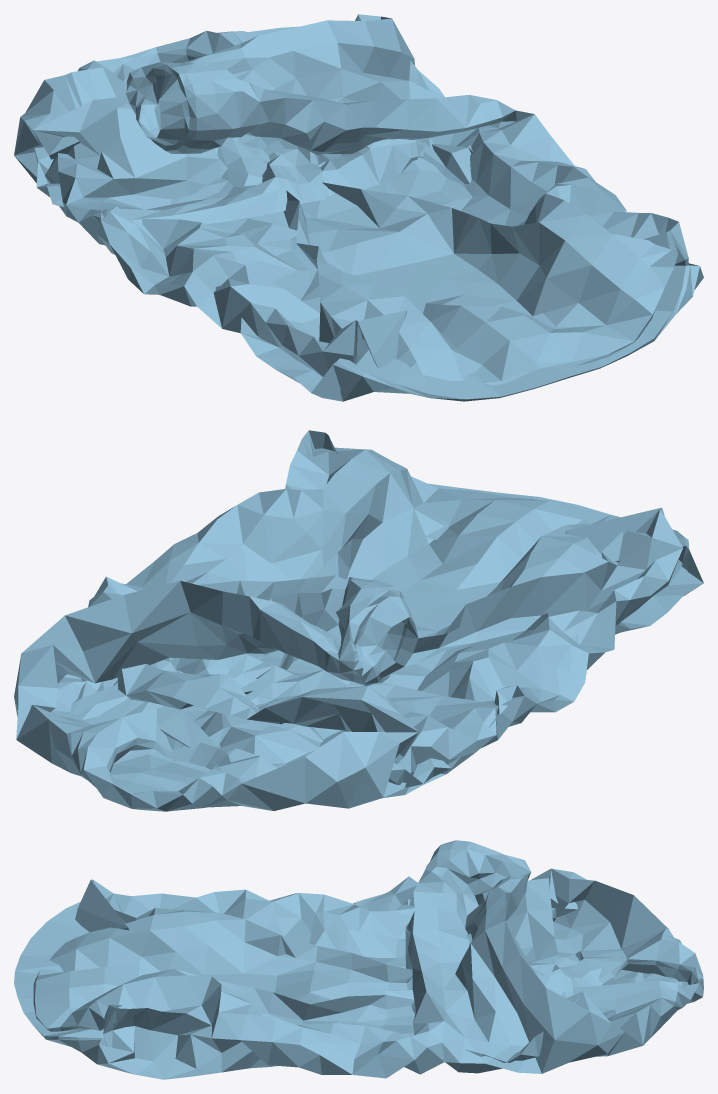
Rendered from frame_19.glb.
3 renders of one model, top to bottom at view 1: azimuth 30°, elevation 25°; view 2: azimuth 150°, elevation 25°; view 3: azimuth 270°, elevation 25°, orthographic. The views are drawn at different scales.
Visible parts, largest first — view 1: frame_19.obj; view 2: frame_19.obj; view 3: frame_19.obj.
Boxes of the visible parts, box(x1,y1,x2,y2) form: frame_19.obj: box(14, 14, 703, 401); frame_19.obj: box(14, 430, 703, 811); frame_19.obj: box(14, 840, 703, 1079).
Bounding box in the file's own units: 0.9586 × 0.3477 × 1.6.
